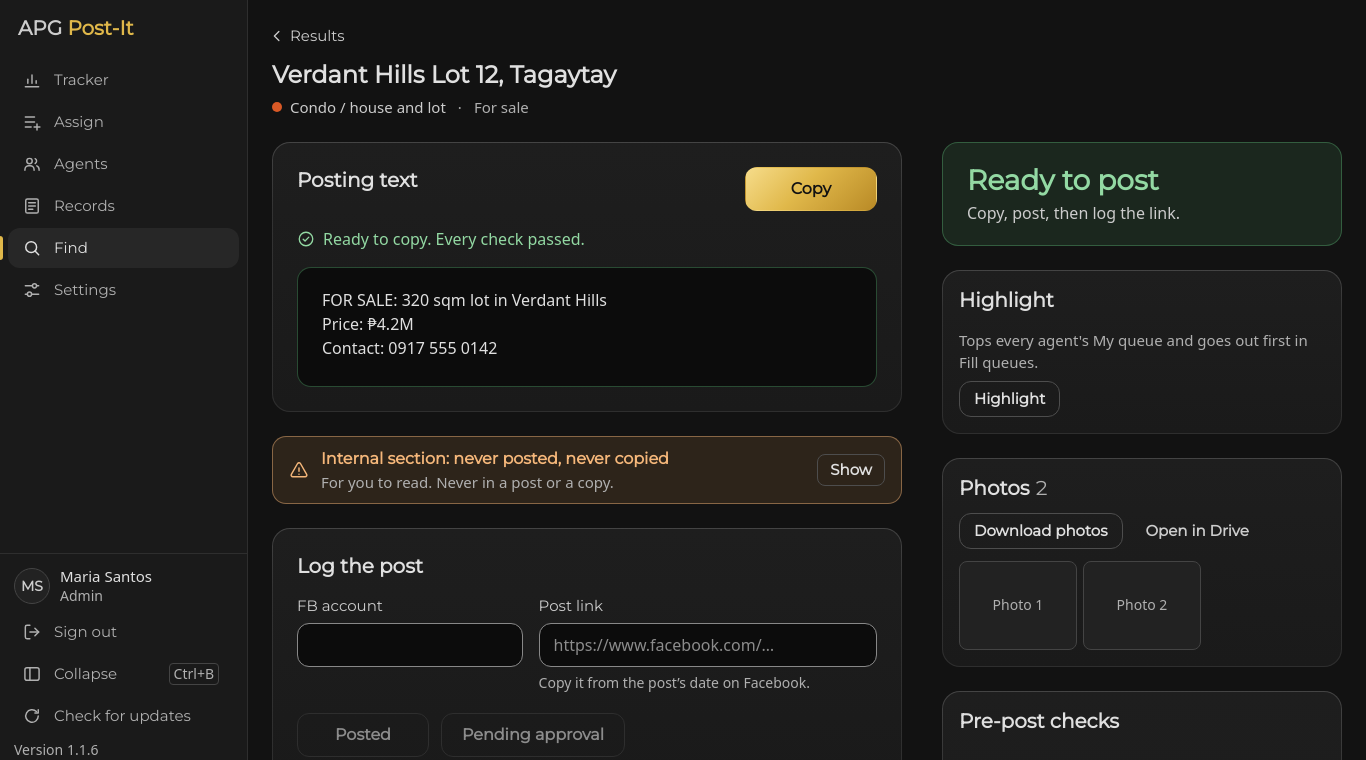
Test: Copy › is enabled when every check passes, and copies the public text and nothing else
Click the button "Copy" at (811, 189), box 745,167 -> 877,211
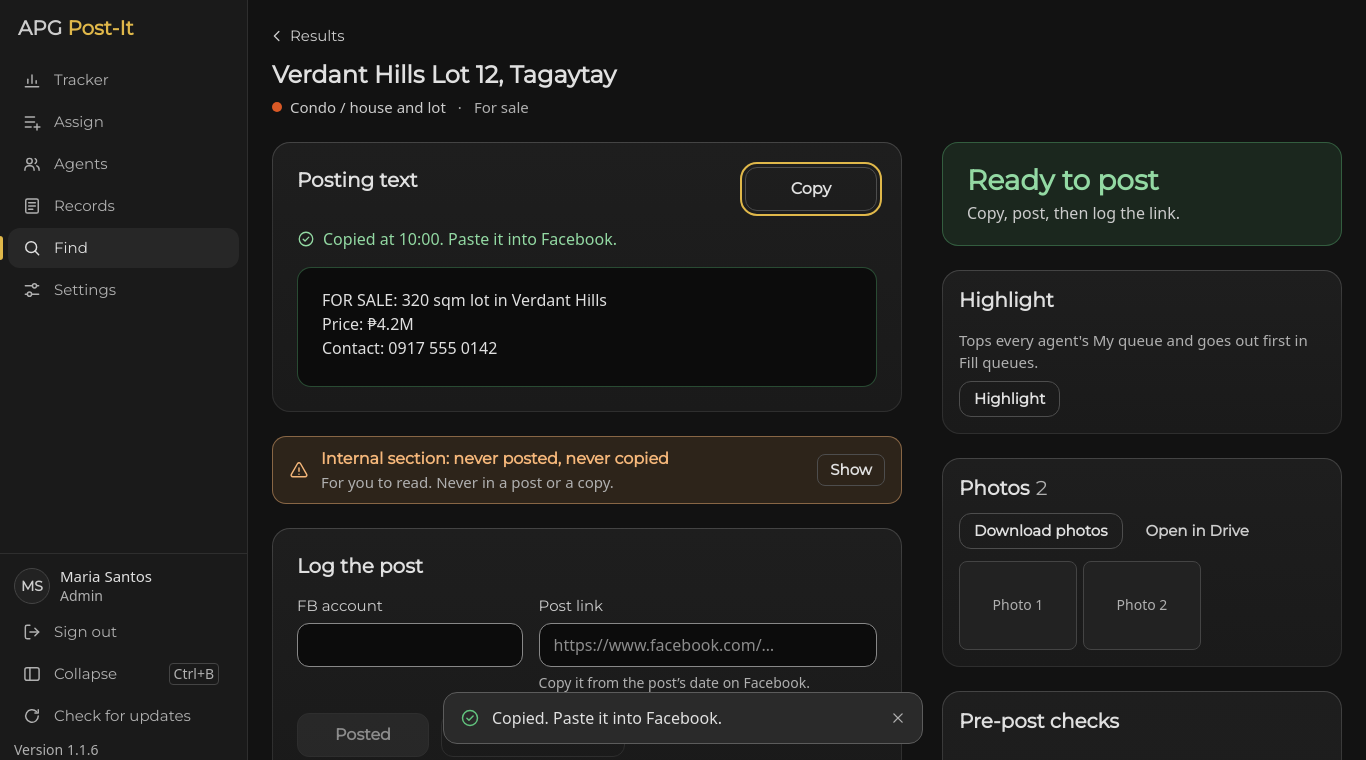
Check: the text "Copied. Paste it into Facebook." is shown, box 492,707 -> 722,729
